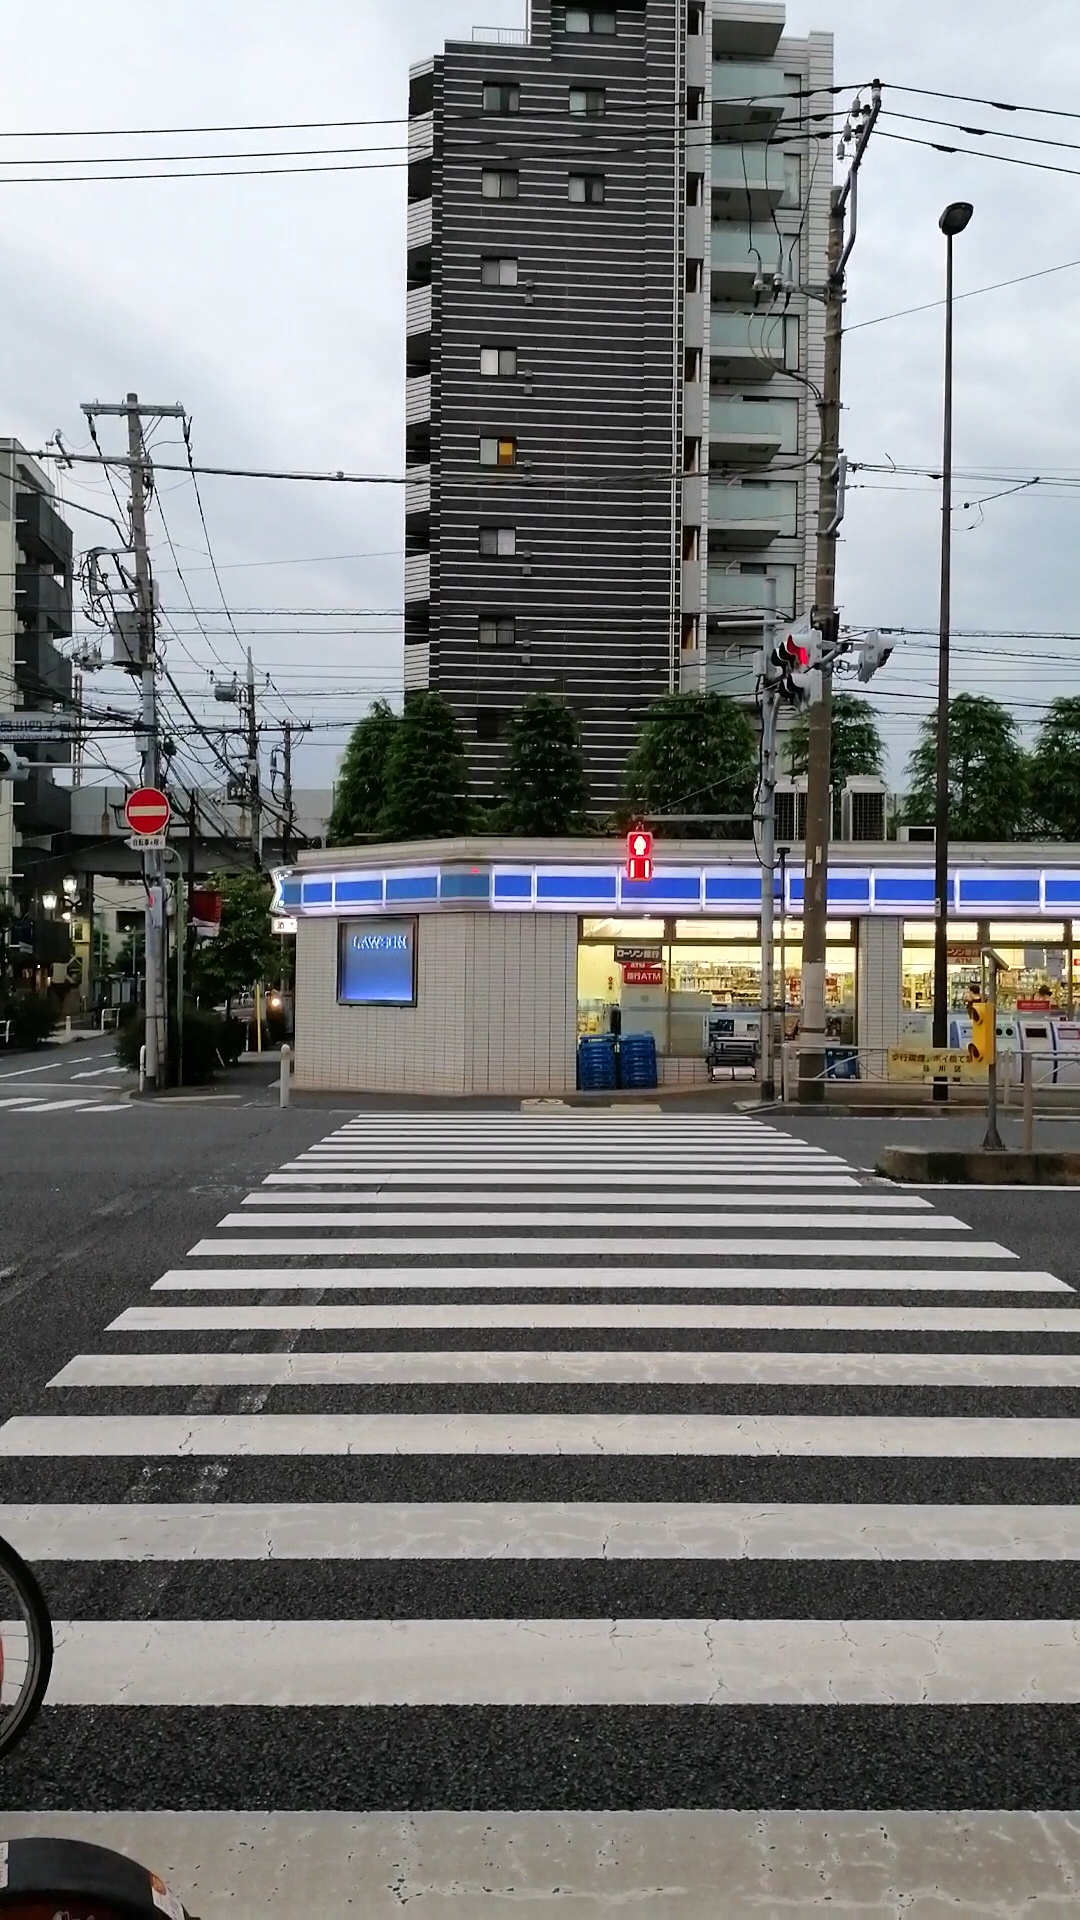red: (626, 831, 653, 882)
